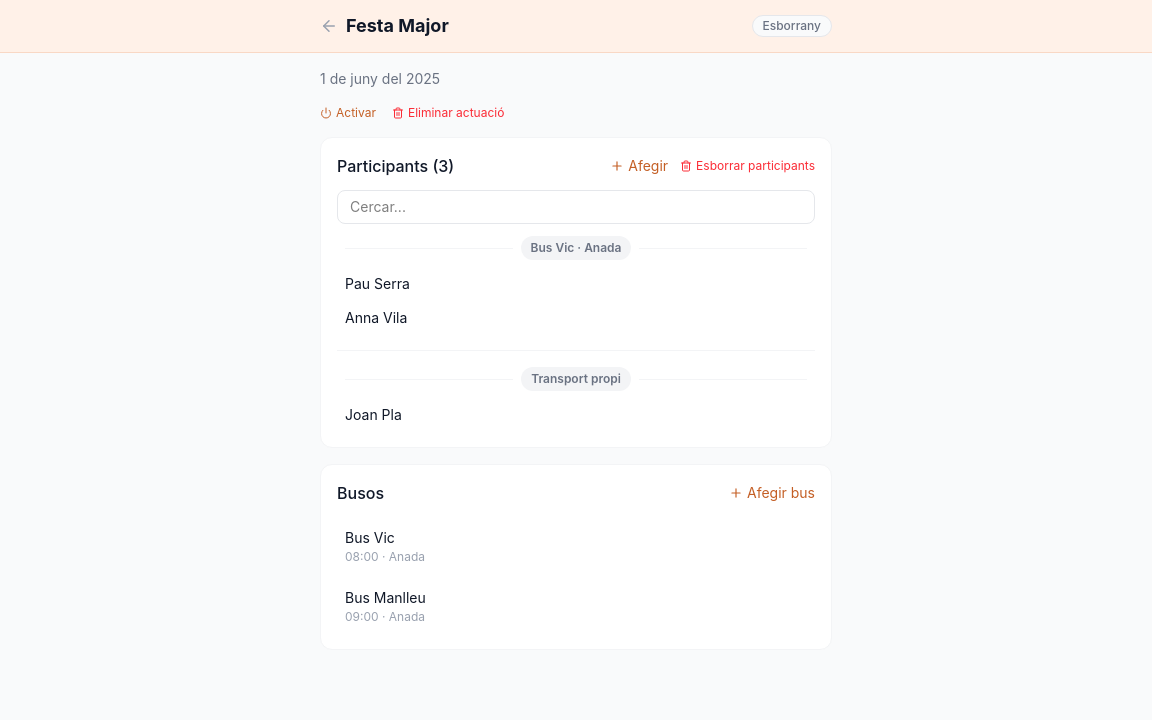
Test: EventAdmin - participants › cancel·la esborrar participants
Click the button "Esborrar participants": (748, 166) [680, 158, 815, 174]
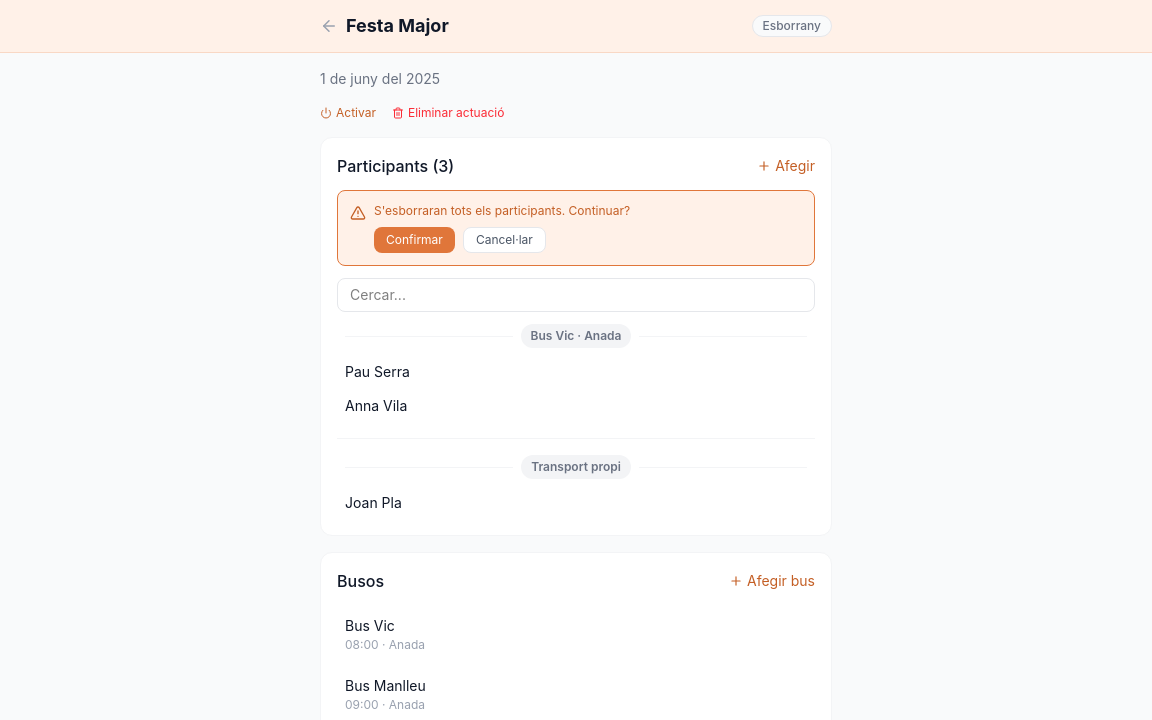
Expected: the text "S'esborraran tots els participants. Continuar?" is shown, [374, 203, 630, 218]
Click the button "Cancel·lar": (504, 240) [463, 227, 546, 253]
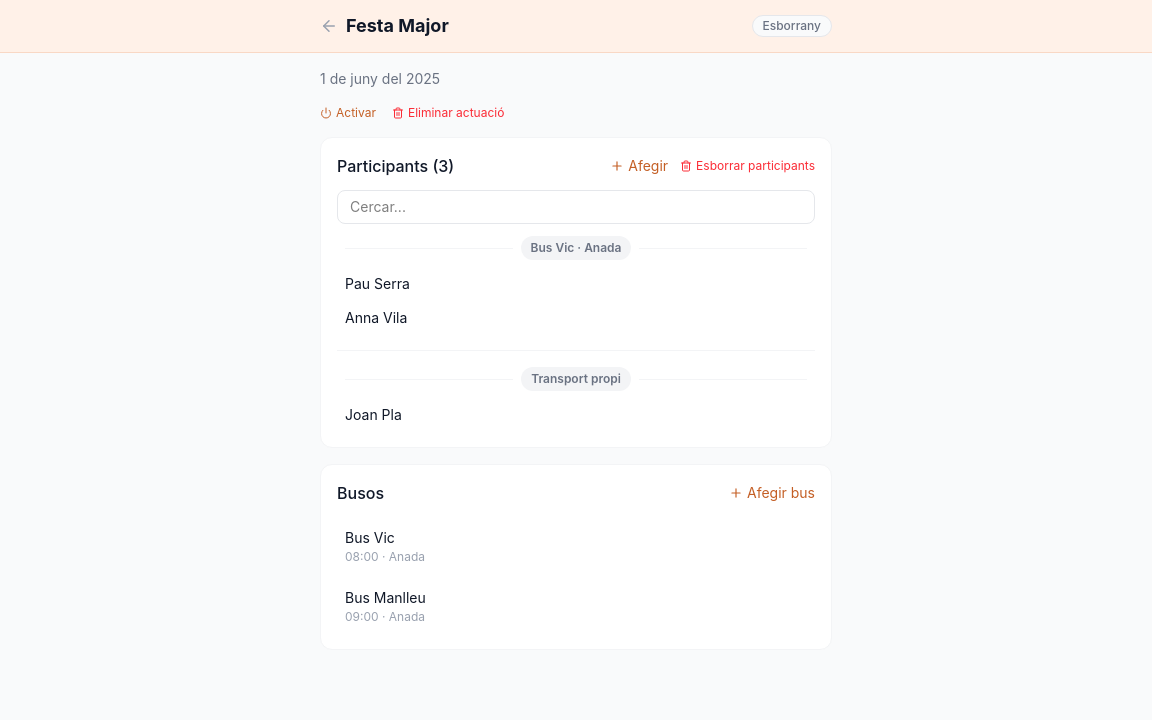
Expected: the text "S'esborraran" is gone
